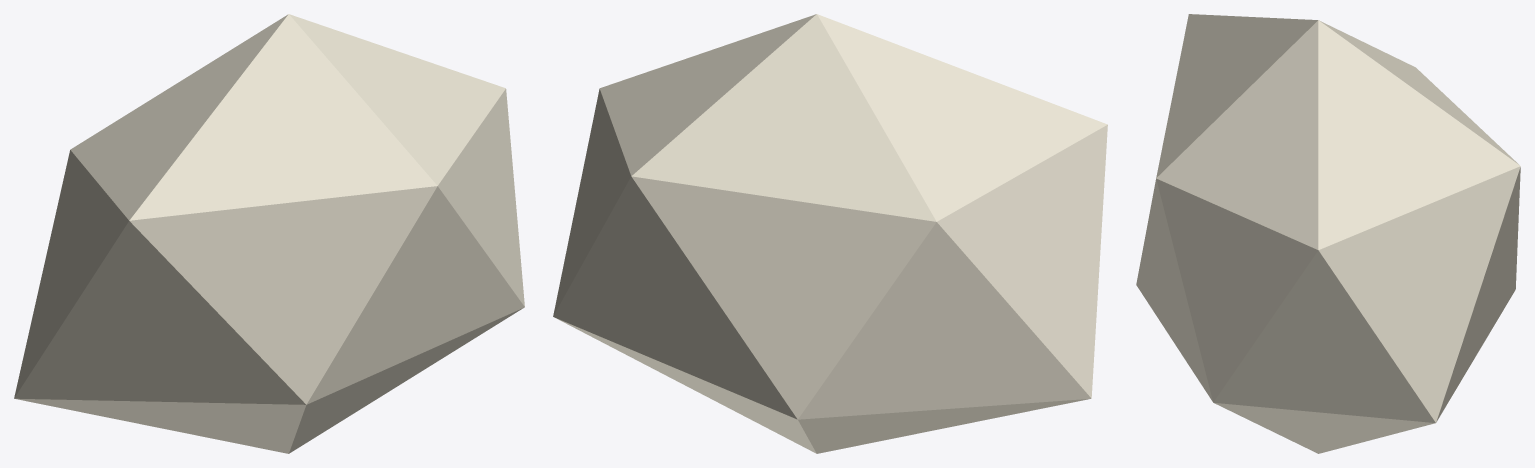
File: LimestoneRock.fbx
3 views of the same model, side by side, from view 1: azimuth 30°, elevation 25°; view 2: azimuth 150°, elevation 25°; view 3: azimuth 270°, elevation 25° (orthographic).
Visible parts, largest first — view 1: Faceted limestone; view 2: Faceted limestone; view 3: Faceted limestone.
Part boxes in pixels (x1=…): Faceted limestone: x1=14, y1=14, x2=524, y2=453; Faceted limestone: x1=553, y1=14, x2=1107, y2=453; Faceted limestone: x1=1136, y1=14, x2=1520, y2=453.
Size of the model in its own units: 4.18 by 3.57 by 2.87.
